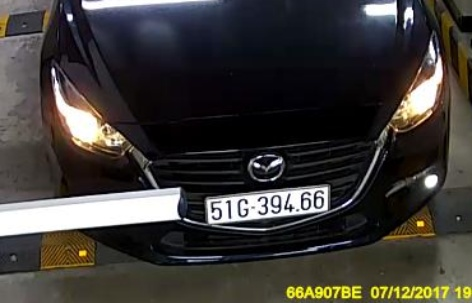plate: (200, 181, 330, 224)
